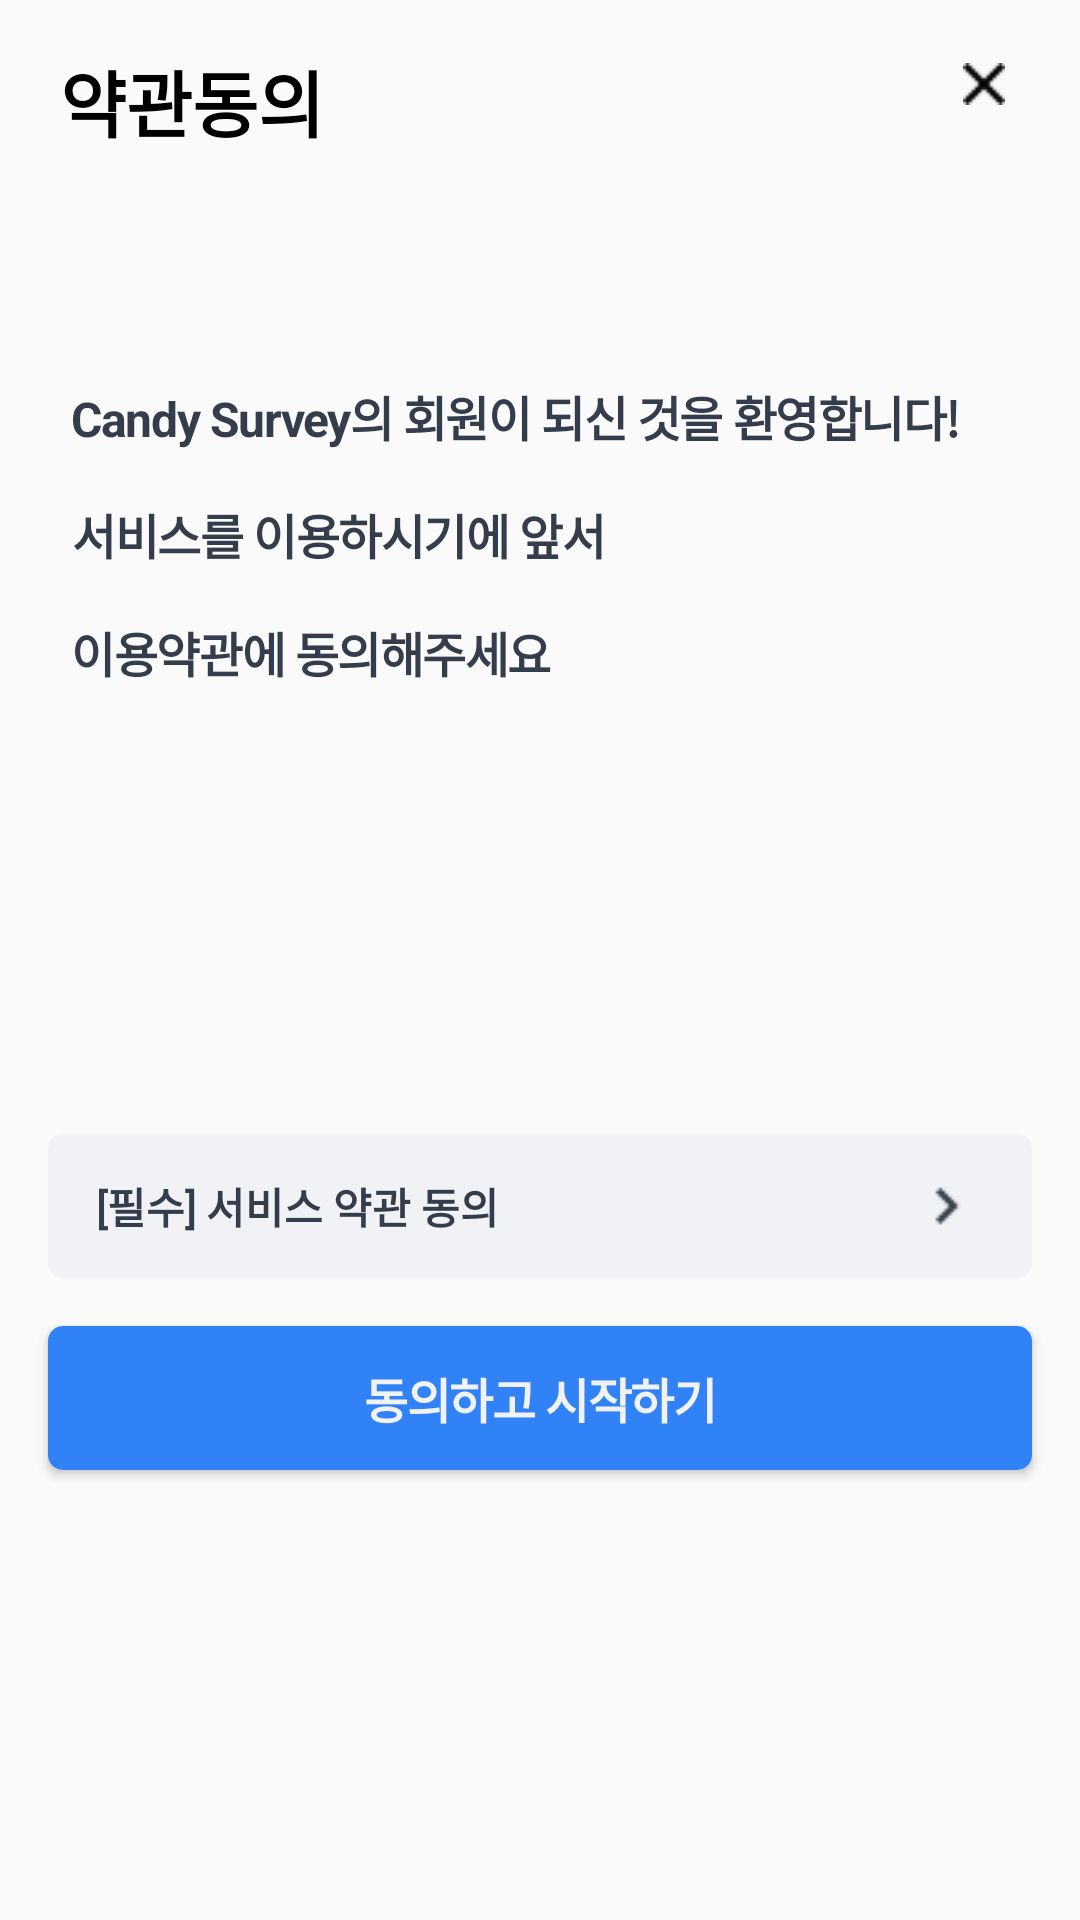

Screen size 1080×1920. Icon name, then its box in pixels as box=[x1, y1, x2, y2]:
close: box=[963, 63, 1005, 105]
navigate next: box=[935, 1187, 958, 1225]
